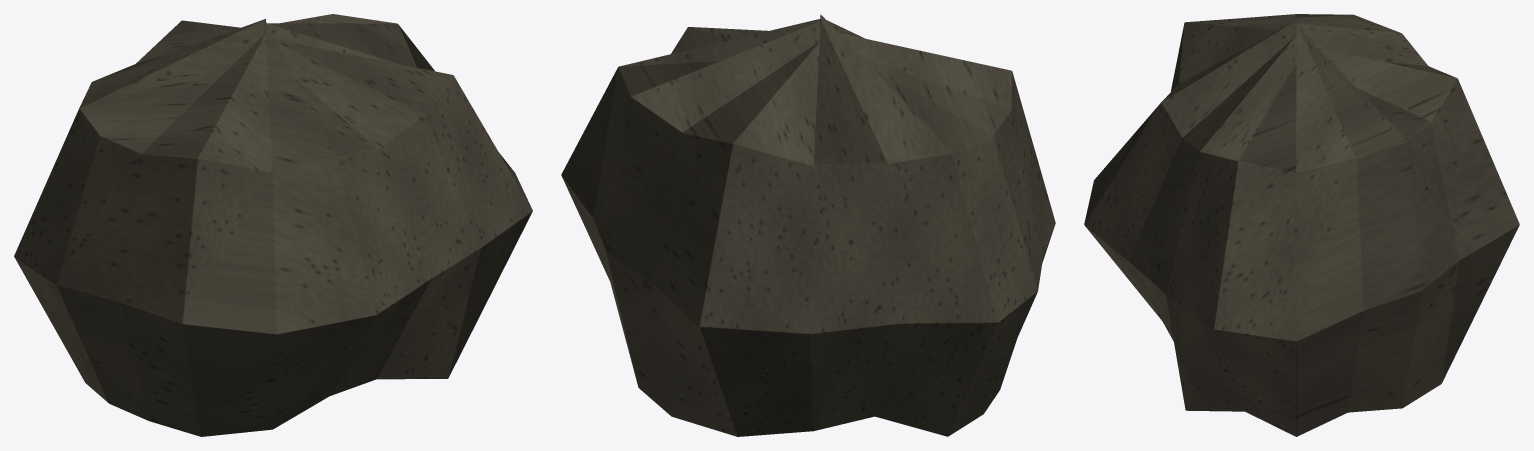
The model's file is PROP-4B85C37FDB2E_lod0.glb.
3 renders of one model, left to right at view 1: azimuth 30°, elevation 25°; view 2: azimuth 150°, elevation 25°; view 3: azimuth 270°, elevation 25°, orthographic. The views are drawn at different scales.
Visible parts, largest first — view 1: rock.001; view 2: rock.001; view 3: rock.001.
Boxes of the visible parts, <box> form: rock.001: <box>14,14,532,436</box>; rock.001: <box>561,14,1055,436</box>; rock.001: <box>1084,14,1519,436</box>.
Size of the model in its own units: 1.33 by 0.9582 by 1.13.
1 material, 1 textured.
